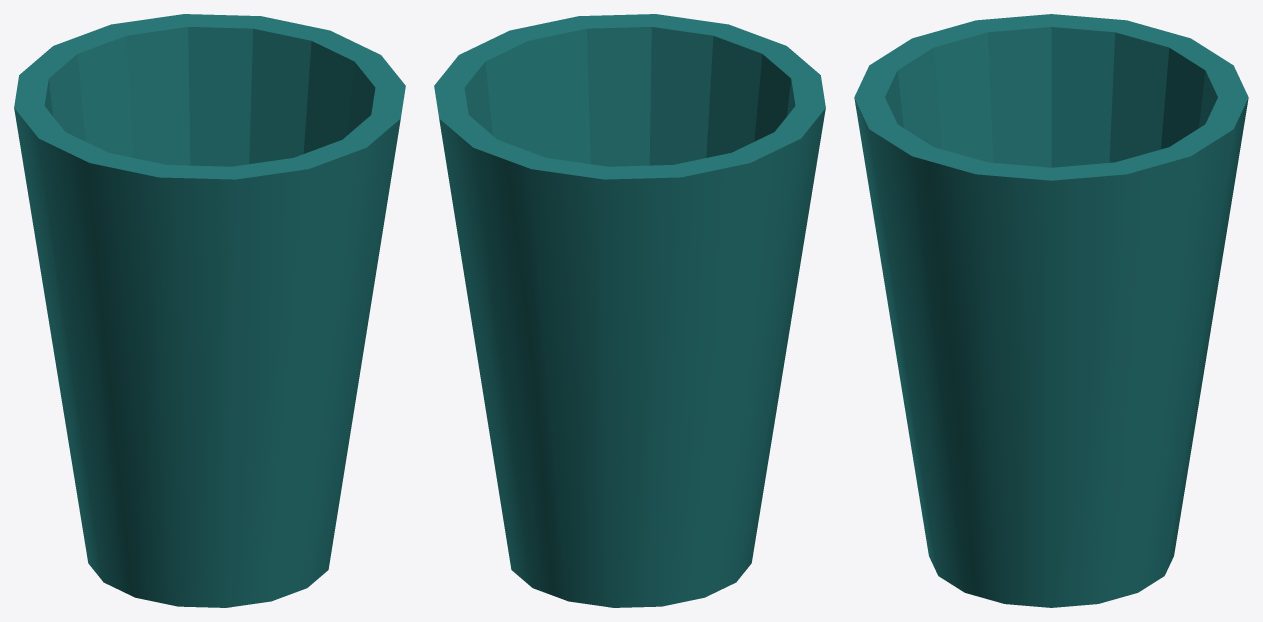
File: Kitchen_Cup.fbx
3 renders of one model, left to right at view 1: azimuth 30°, elevation 25°; view 2: azimuth 150°, elevation 25°; view 3: azimuth 270°, elevation 25°, orthographic.
Visible parts, largest first — view 1: Cup; view 2: Cup; view 3: Cup.
Boxes of the visible parts, x1,y1,x2,y2 form: Cup: [14, 14, 405, 607]; Cup: [434, 14, 825, 607]; Cup: [854, 14, 1248, 607].
Bounding box in the file's own units: 87.31 × 112 × 87.31.
